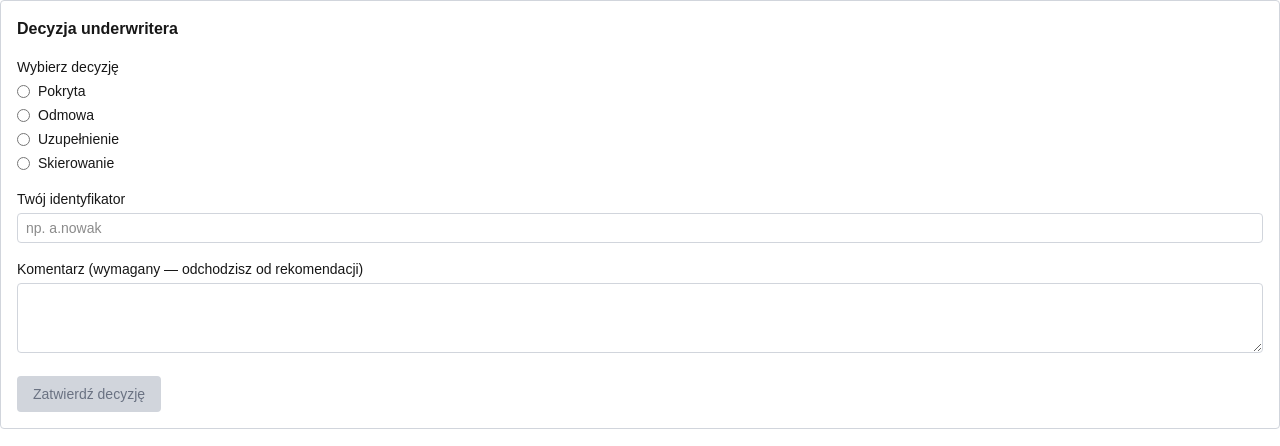
DecisionForm › szkoda Z10: zgoda z decyzja po regulach (SKIEROWANIE) bez komentarza, mimo innej oceny LLM
Step 1. Click the radio button labelled "Skierowanie" → (24, 163), box left=17, top=156, right=30, bottom=170
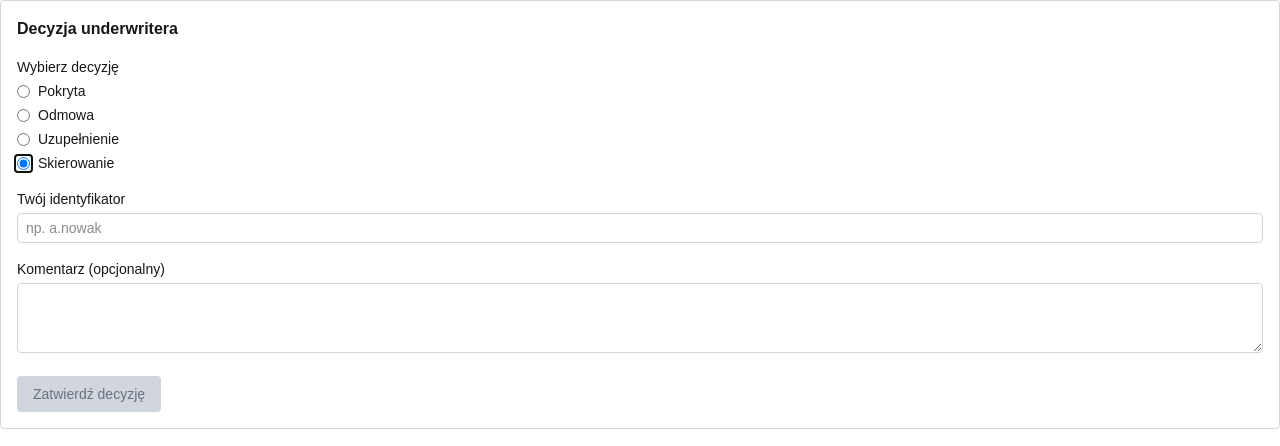
Step 2. Type "test.manual" into the field labelled "Twój identyfikator" → (640, 228), box left=17, top=213, right=1263, bottom=243
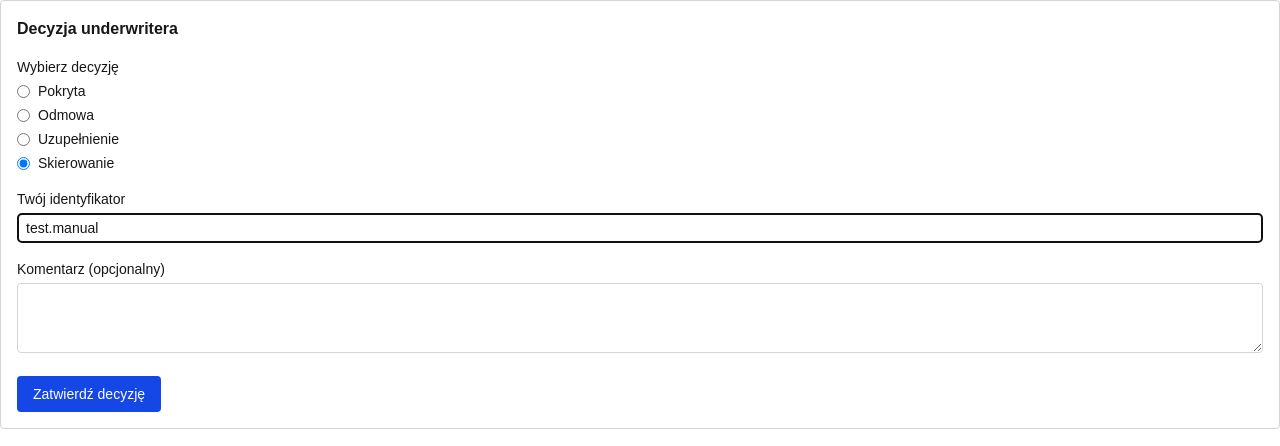
Now the text "Komentarz (opcjonalny)" is shown, box left=17, top=261, right=165, bottom=277
Step 3. Click the radio button labelled "Pokryta" → (24, 91), box left=17, top=84, right=30, bottom=98
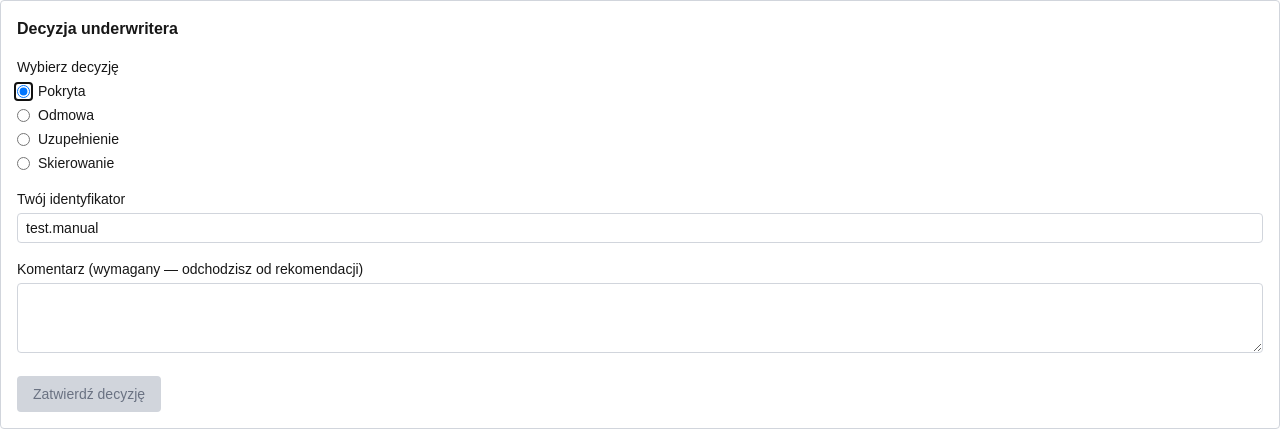
Now the text "Komentarz (wymagany — odchodzisz od rekomendacji)" is shown, box left=17, top=261, right=363, bottom=277
Now the button "Zatwierdź decyzję" is disabled, box left=17, top=376, right=161, bottom=412
